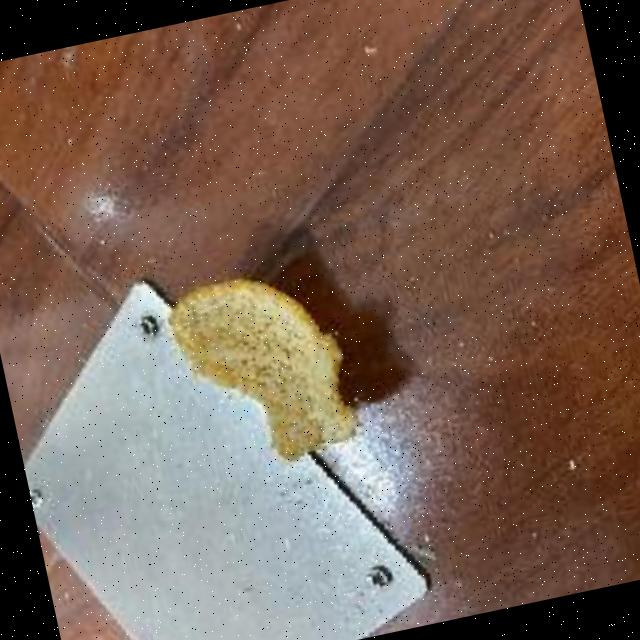orange-peel: (157, 252, 368, 481)
